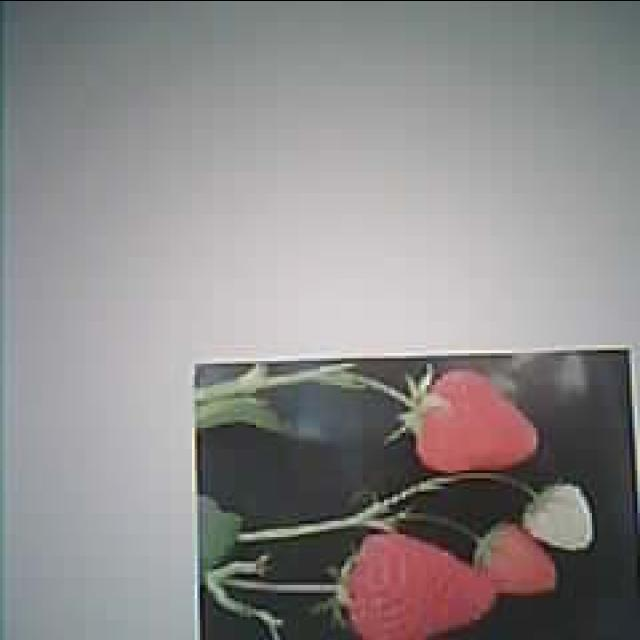ripe: (354, 534, 494, 640), (416, 368, 540, 467), (476, 524, 559, 592)
unripe: (522, 480, 594, 547)
